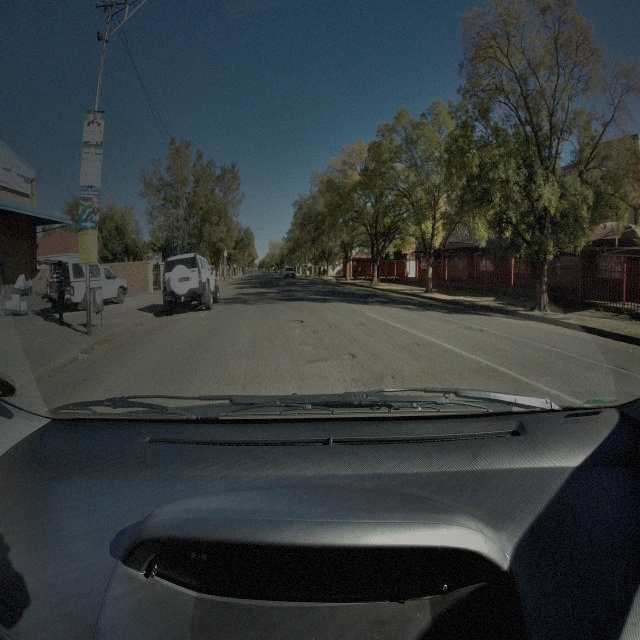pothole: (343, 350, 357, 362), (288, 318, 304, 327)
